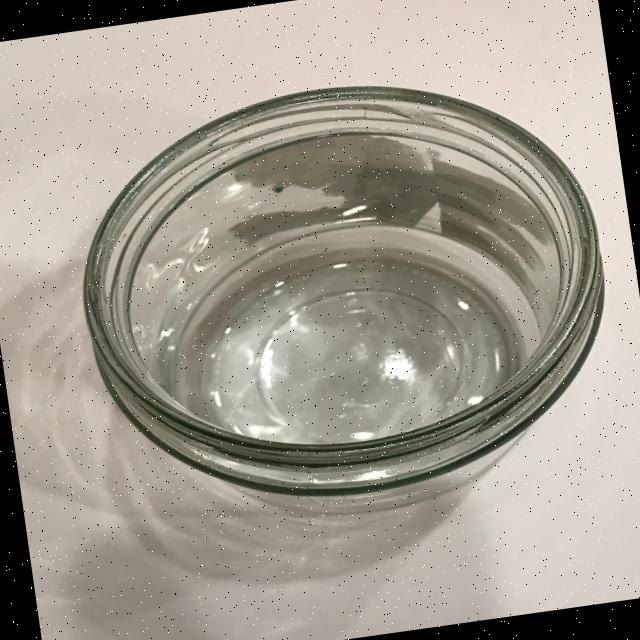glass: (58, 52, 633, 540)
